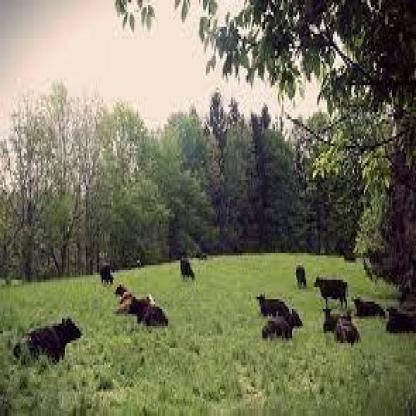cow: (13, 318, 82, 366), (262, 308, 303, 339), (129, 296, 169, 327), (314, 275, 349, 309), (351, 294, 387, 319), (386, 306, 416, 336), (322, 306, 350, 335), (257, 292, 289, 316), (336, 315, 361, 344), (116, 283, 134, 315), (100, 262, 116, 288), (180, 254, 195, 281), (295, 262, 307, 290)
